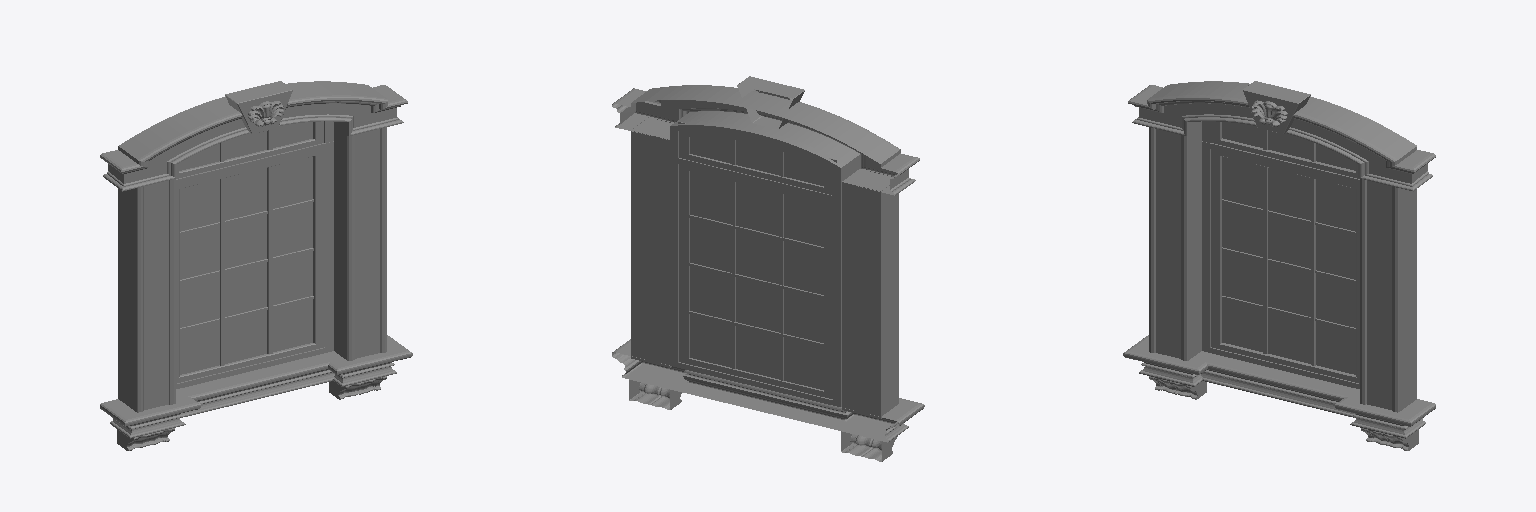
Rendered from window2.obj.
3 views of the same model, side by side, from view 1: azimuth 30°, elevation 25°; view 2: azimuth 150°, elevation 25°; view 3: azimuth 330°, elevation 25° (orthographic).
Visible parts, largest first — view 1: window2:window; view 2: window2:window; view 3: window2:window.
Part boxes in pixels (left/top/right/bottom): window2:window: left=100, top=81, right=412, bottom=450; window2:window: left=612, top=76, right=924, bottom=461; window2:window: left=1123, top=81, right=1435, bottom=450.
Bounding box in the file's own units: 1.08 × 1.19 × 0.1676.